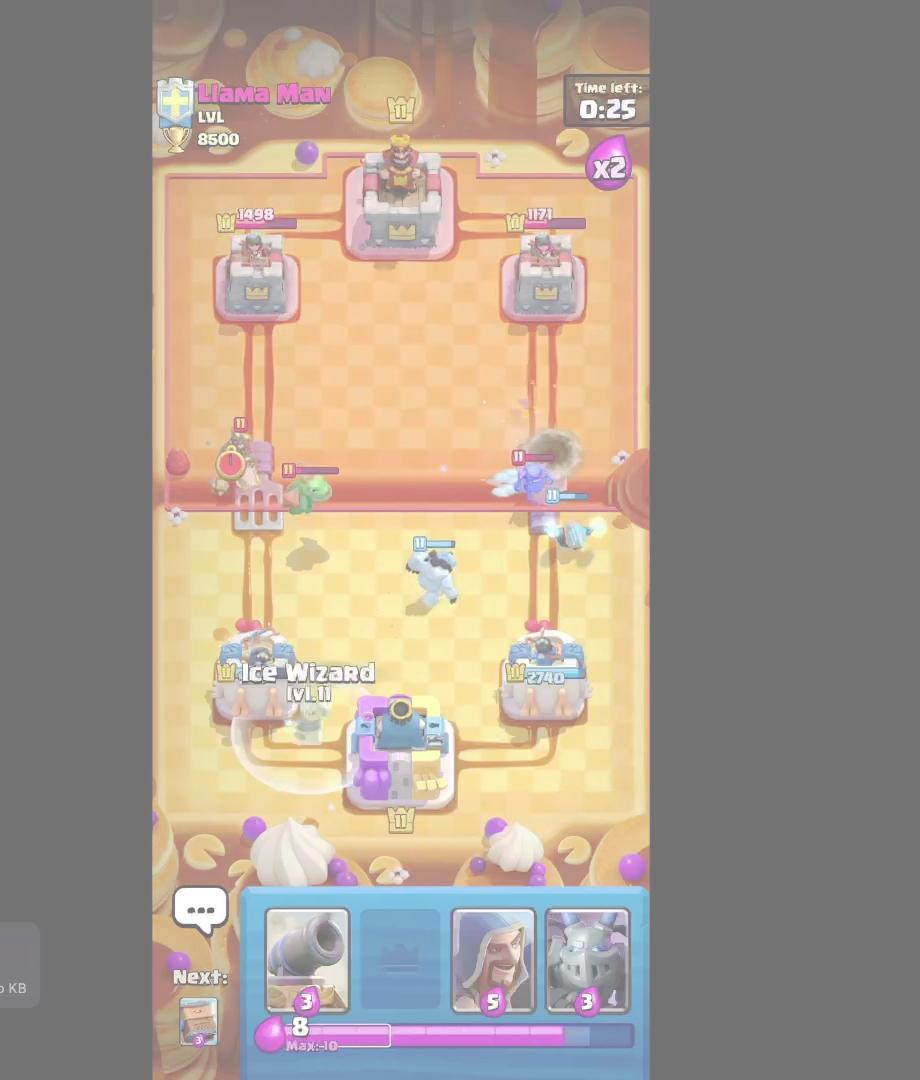Baby Dragon: (285, 446, 359, 529)
Hog Rider: (220, 404, 262, 500)
Mini Pekka: (502, 451, 557, 501)
